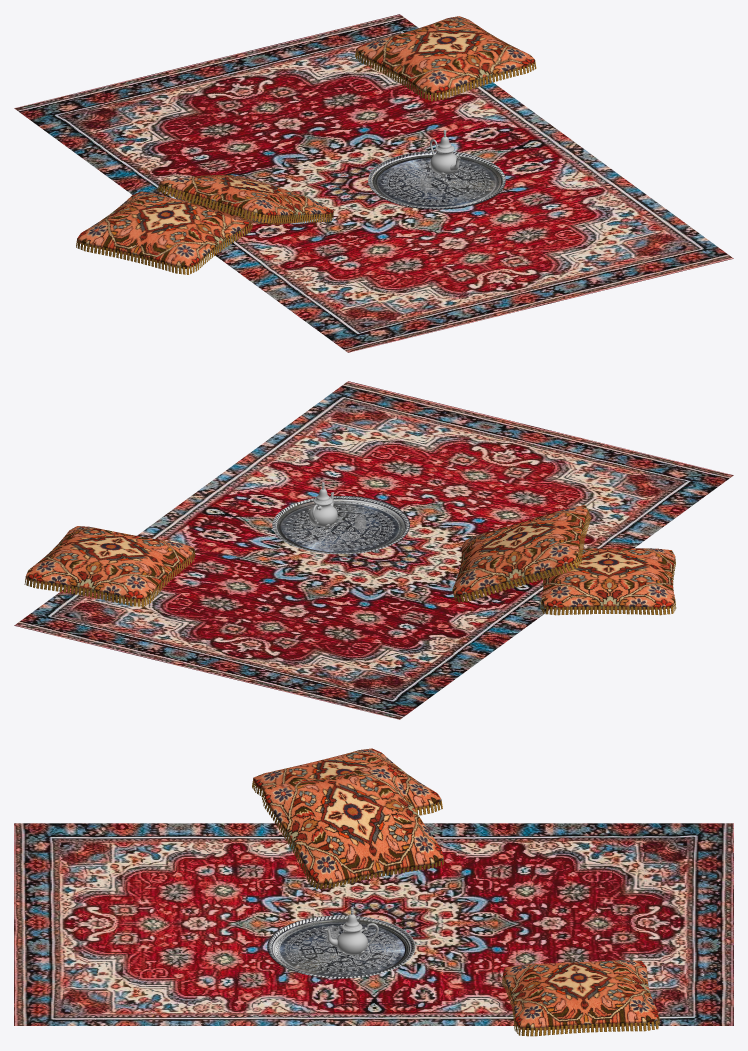
The model's file is Glisa.glb.
The picture shows the model from 3 angles, top to bottom: view 1: azimuth 30°, elevation 25°; view 2: azimuth 150°, elevation 25°; view 3: azimuth 270°, elevation 25°; orthographic projection. The views are drawn at different scales.
Parts seen in each view (by area): view 1: carpet.010, Coussin_frange_Coussin1_0.003, Coussin_frange_Coussin1_0.001, MoroccanSet_Tray_MoroccanSet_Tray _0, Coussin_frange_Coussin1_0.002, MoroccanSet_Cattle_MoroccanSet_Sweets_Metal_Kettle_0; view 2: carpet.010, Coussin_frange_Coussin1_0.003, Coussin_frange_Coussin1_0.002, Coussin_frange_Coussin1_0.001, MoroccanSet_Tray_MoroccanSet_Tray _0, MoroccanSet_Cattle_MoroccanSet_Sweets_Metal_Kettle_0; view 3: carpet.010, Coussin_frange_Coussin1_0.002, Coussin_frange_Coussin1_0.003, MoroccanSet_Tray_MoroccanSet_Tray _0, Coussin_frange_Coussin1_0.001, MoroccanSet_Cattle_MoroccanSet_Sweets_Metal_Kettle_0.
Part boxes in pixels (x1,y1,x2,y2): carpet.010: [14, 14, 733, 352]; Coussin_frange_Coussin1_0.003: [355, 16, 536, 101]; Coussin_frange_Coussin1_0.001: [76, 191, 252, 274]; MoroccanSet_Tray_MoroccanSet_Tray _0: [368, 151, 505, 209]; Coussin_frange_Coussin1_0.002: [157, 175, 333, 224]; MoroccanSet_Cattle_MoroccanSet_Sweets_Metal_Kettle_0: [430, 130, 460, 180]; carpet.010: [14, 381, 733, 719]; Coussin_frange_Coussin1_0.003: [24, 526, 195, 606]; Coussin_frange_Coussin1_0.002: [452, 505, 591, 602]; Coussin_frange_Coussin1_0.001: [540, 548, 676, 615]; MoroccanSet_Tray_MoroccanSet_Tray _0: [272, 495, 409, 554]; MoroccanSet_Cattle_MoroccanSet_Sweets_Metal_Kettle_0: [308, 482, 337, 532]; carpet.010: [14, 823, 733, 1025]; Coussin_frange_Coussin1_0.002: [261, 765, 443, 889]; Coussin_frange_Coussin1_0.003: [502, 960, 659, 1036]; MoroccanSet_Tray_MoroccanSet_Tray _0: [267, 915, 415, 978]; Coussin_frange_Coussin1_0.001: [252, 748, 442, 815]; MoroccanSet_Cattle_MoroccanSet_Sweets_Metal_Kettle_0: [324, 907, 378, 960].
Bounding box in the file's own units: 6.09 × 0.5798 × 6.65.
5 materials, 3 textured.
